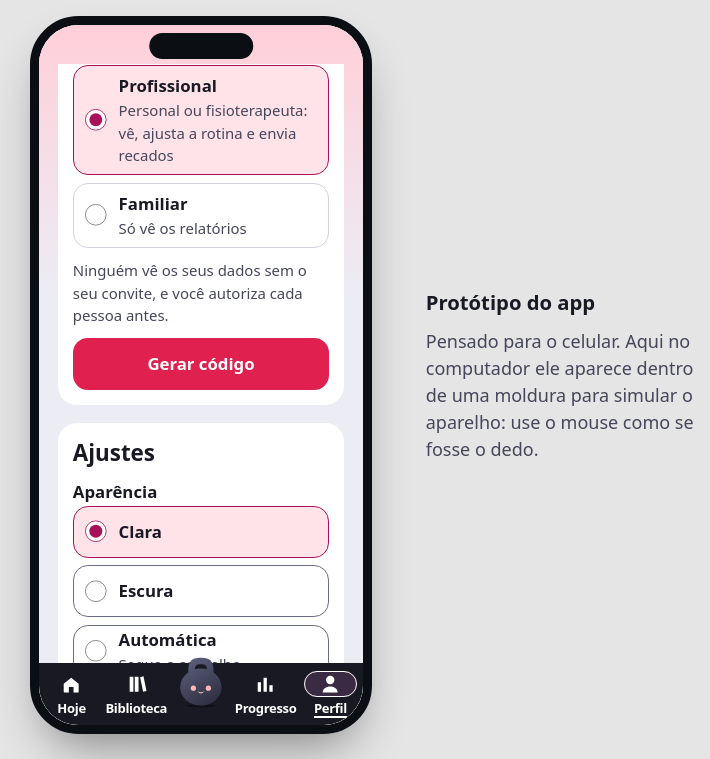
Test: convidar › "Copiar código" envia o código para a área de transferência e confirma
(page scrolled)
Click the button "Gerar código" at (201, 364), box 73,338 -> 329,390
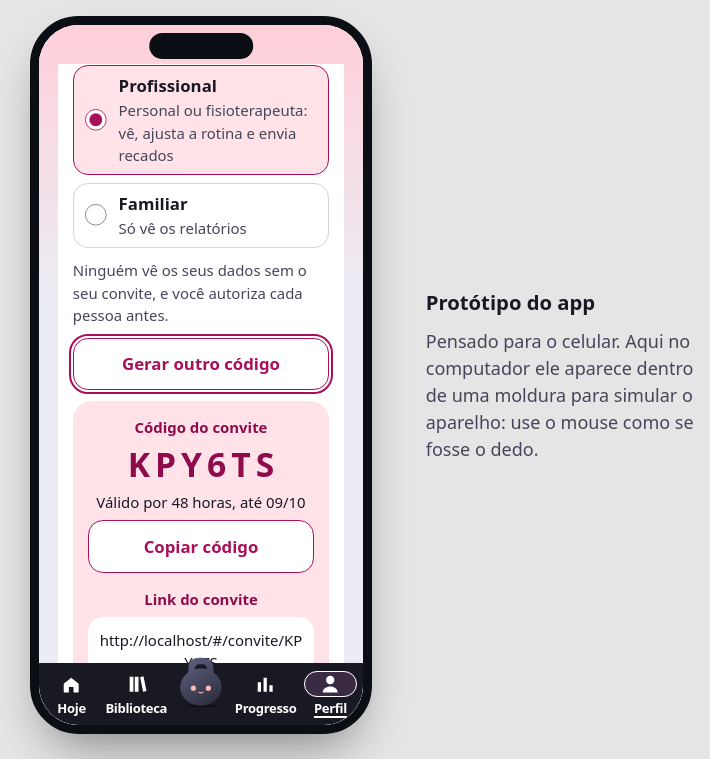
Click the button "Copiar código" at (201, 547), box 88,520 -> 314,573
(page scrolled)
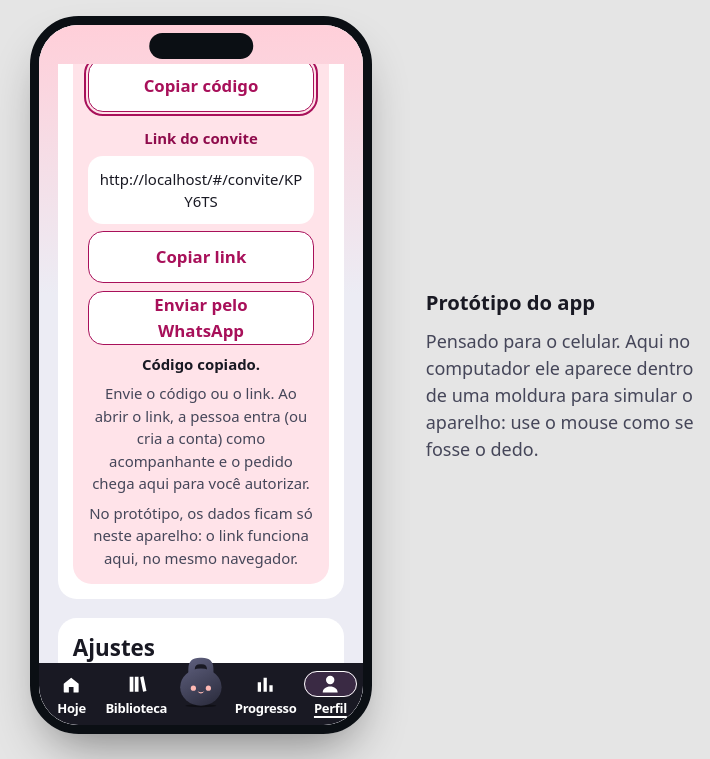
Now the text "Código copiado." is shown, box 142,352 -> 260,375
